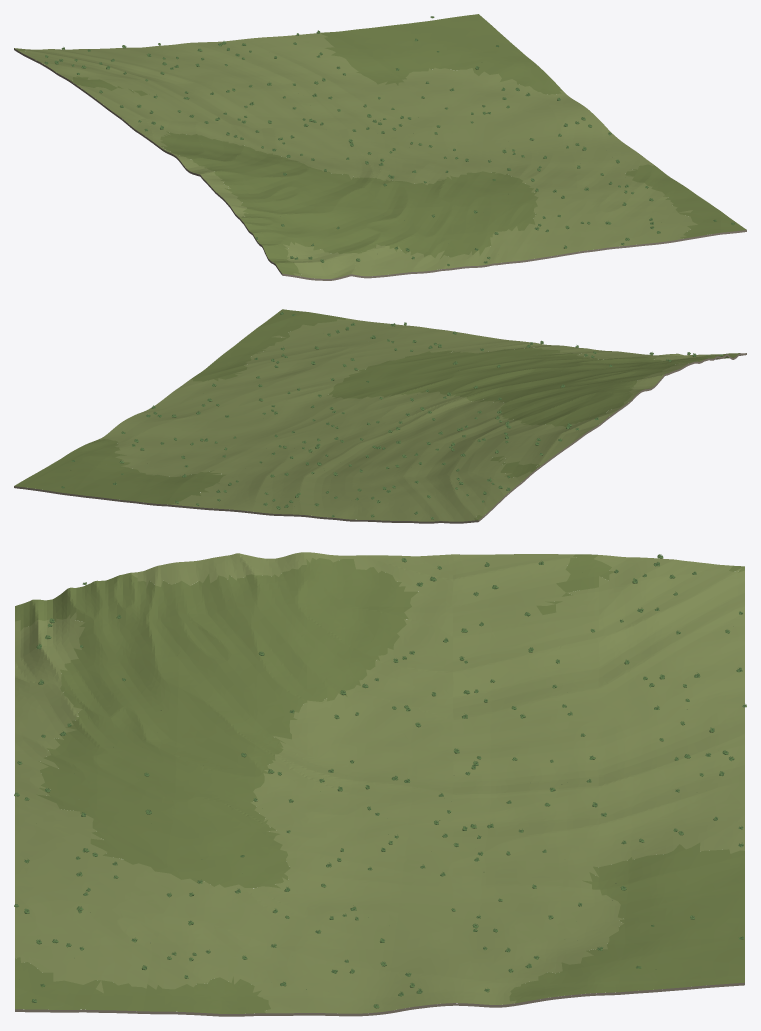
File: parca_+10_-5-yakin.glb
3 views of the same model, one above another, from view 1: azimuth 30°, elevation 25°; view 2: azimuth 150°, elevation 25°; view 3: azimuth 270°, elevation 25° (orthographic). The views are drawn at different scales.
Visible parts, largest first — view 1: parca_+10_-5_arazi, parca_+10_-5_bitkiler; view 2: parca_+10_-5_arazi, parca_+10_-5_bitkiler; view 3: parca_+10_-5_arazi, parca_+10_-5_bitkiler.
Part boxes in pixels (x1,y1,x2,y2): parca_+10_-5_arazi: (14, 14, 746, 280); parca_+10_-5_bitkiler: (44, 16, 734, 265); parca_+10_-5_arazi: (14, 309, 746, 523); parca_+10_-5_bitkiler: (61, 312, 722, 519); parca_+10_-5_arazi: (15, 552, 744, 1016); parca_+10_-5_bitkiler: (14, 554, 746, 1008).
Bounding box in the file's own units: 1003 × 236 × 1004.
